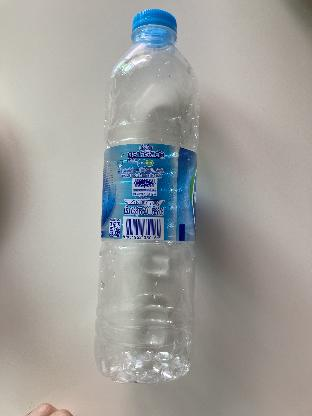Plastic Bottle: (96, 6, 198, 384)
